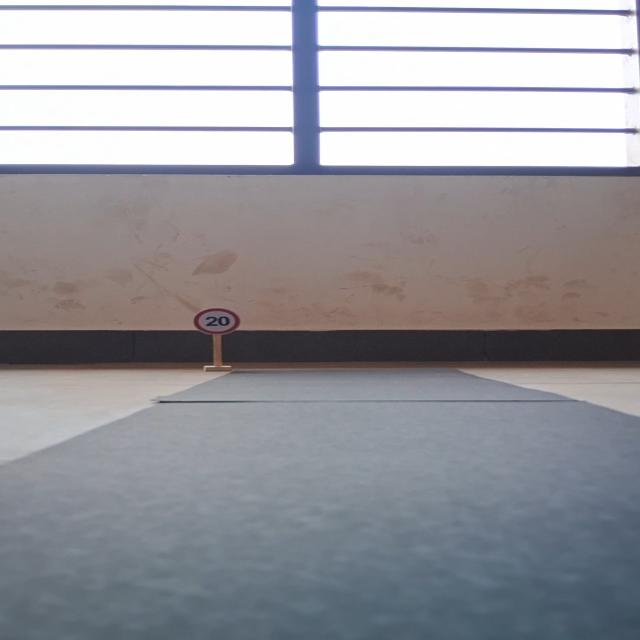Speed20: (192, 308, 242, 336)
